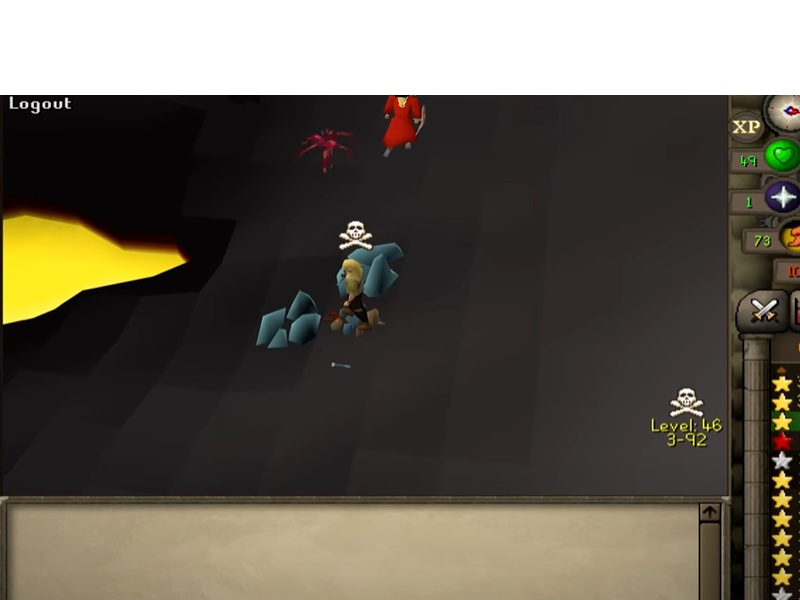rune: (250, 287, 326, 352), (335, 241, 407, 301)
